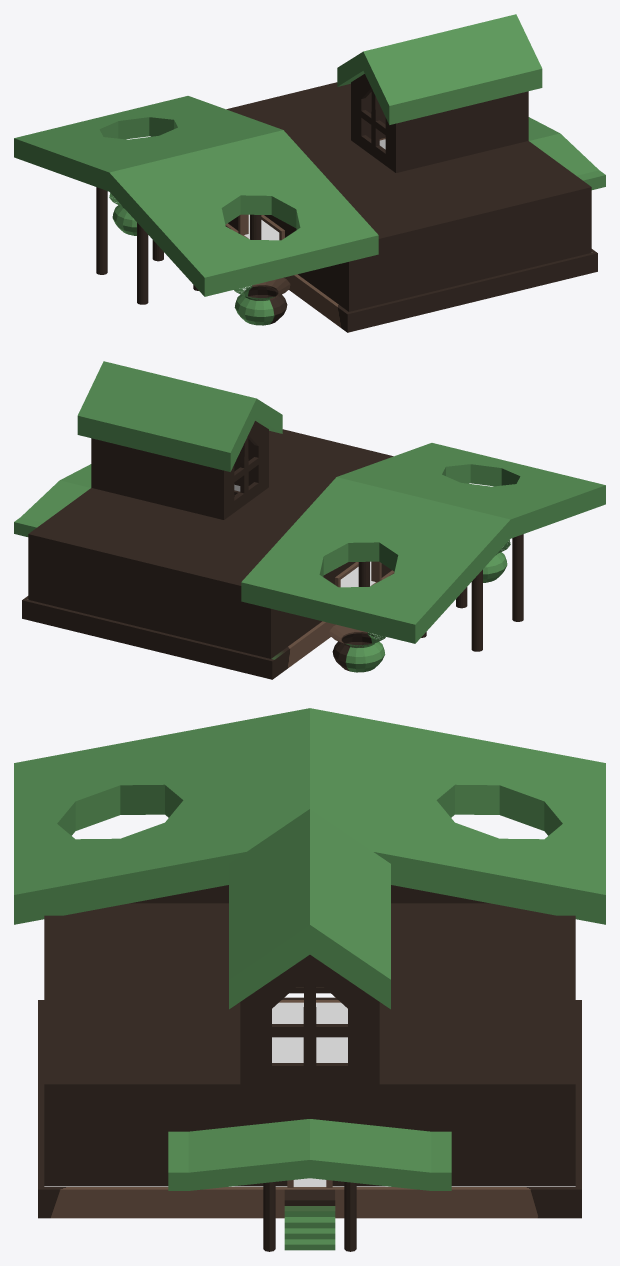
File: mod_building_rangerstation.fbx
3 renders of one model, top to bottom at view 1: azimuth 30°, elevation 25°; view 2: azimuth 150°, elevation 25°; view 3: azimuth 270°, elevation 25°, orthographic. The views are drawn at different scales.
Parts seen in each view (by area): view 1: Cube.009, Cube.006, Cube.001, Cube.005, Cube.008, Cube.004, Cube.002, Cylinder.007, Cylinder.003, Cylinder.006, Cylinder.008; view 2: Cube.009, Cube.006, Cube.001, Cube.005, Cube.008, Cube.004, Cube.002, Cylinder.008, Cylinder.006, Cylinder.003, Cylinder.007; view 3: Cube.006, Cube.009, Cube.001, Cube.005, Cube.002, Cube.004, Cube.007, Cylinder.
Boxes of the visible parts, x1,y1,x2,y2 form: Cube.009: [14, 96, 378, 296]; Cube.006: [226, 82, 591, 311]; Cube.001: [337, 14, 542, 124]; Cube.005: [225, 214, 597, 332]; Cube.008: [351, 74, 462, 172]; Cube.004: [462, 91, 528, 156]; Cube.002: [528, 117, 605, 189]; Cylinder.007: [234, 277, 290, 325]; Cylinder.003: [96, 187, 107, 274]; Cylinder.006: [137, 222, 148, 304]; Cylinder.008: [109, 193, 136, 235]; Cube.009: [241, 443, 605, 643]; Cube.006: [28, 429, 393, 658]; Cube.001: [77, 361, 282, 471]; Cube.005: [22, 561, 394, 679]; Cube.008: [157, 421, 268, 519]; Cube.004: [91, 438, 157, 503]; Cube.002: [14, 464, 91, 536]; Cylinder.008: [329, 624, 385, 672]; Cylinder.006: [512, 534, 523, 621]; Cylinder.003: [471, 569, 482, 651]; Cylinder.007: [483, 540, 510, 582]; Cube.006: [44, 885, 575, 1186]; Cube.009: [14, 708, 605, 924]; Cube.001: [229, 809, 390, 1009]; Cube.005: [38, 1000, 581, 1218]; Cube.002: [168, 1119, 451, 1190]; Cube.004: [240, 955, 379, 1084]; Cube.007: [284, 1189, 335, 1250]; Cylinder: [263, 1182, 356, 1251].
Bounding box in the file's own units: 6392 × 2600 × 4680.
